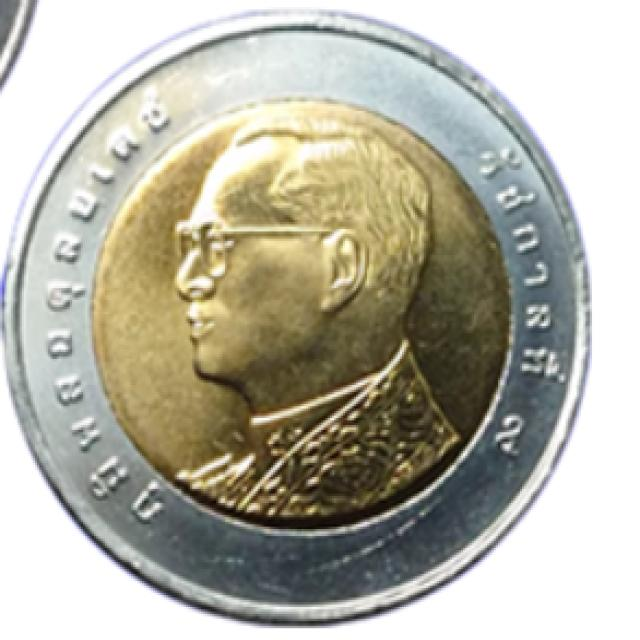10 Bath: (3, 1, 605, 639)
